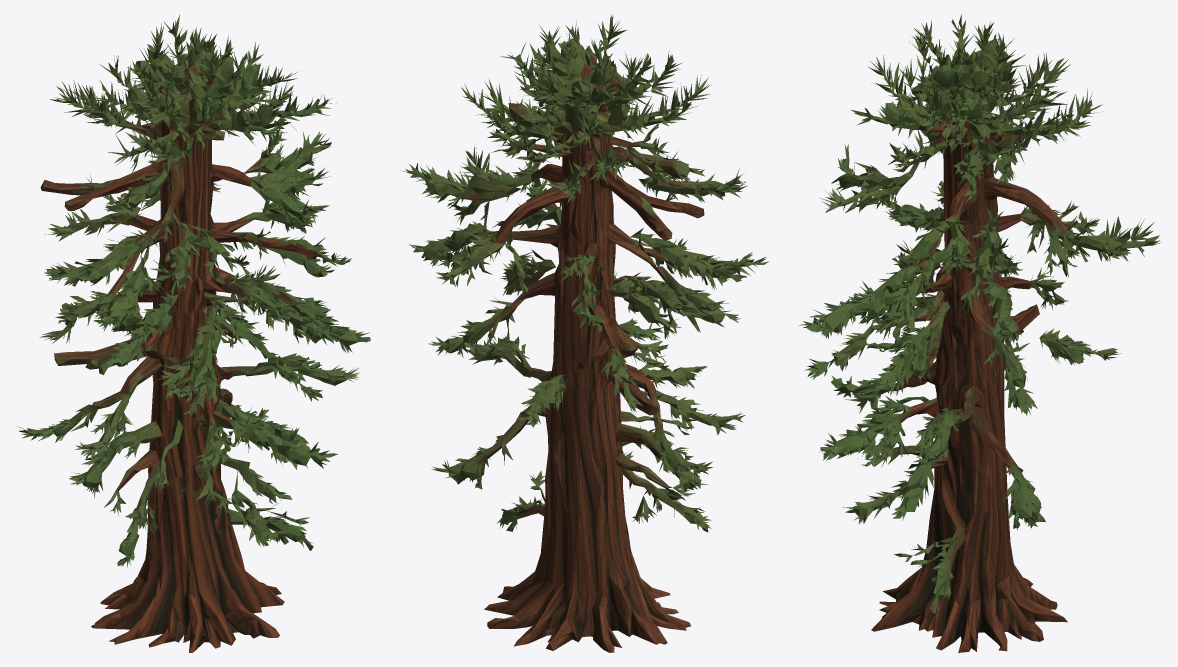
Rendered from IoBSQ_9MPEiqnMinwAEP8_model.glb.
3 renders of one model, left to right at view 1: azimuth 30°, elevation 25°; view 2: azimuth 150°, elevation 25°; view 3: azimuth 270°, elevation 25°, orthographic.
Visible parts, largest first — view 1: mesh_node; view 2: mesh_node; view 3: mesh_node.
Part boxes in pixels (x1=…): mesh_node: x1=17, y1=15, x2=370, y2=652; mesh_node: x1=401, y1=14, x2=769, y2=652; mesh_node: x1=798, y1=14, x2=1159, y2=652.
Bounding box in the file's own units: 1.05 × 1.89 × 1.07.
1 material, 1 textured.
